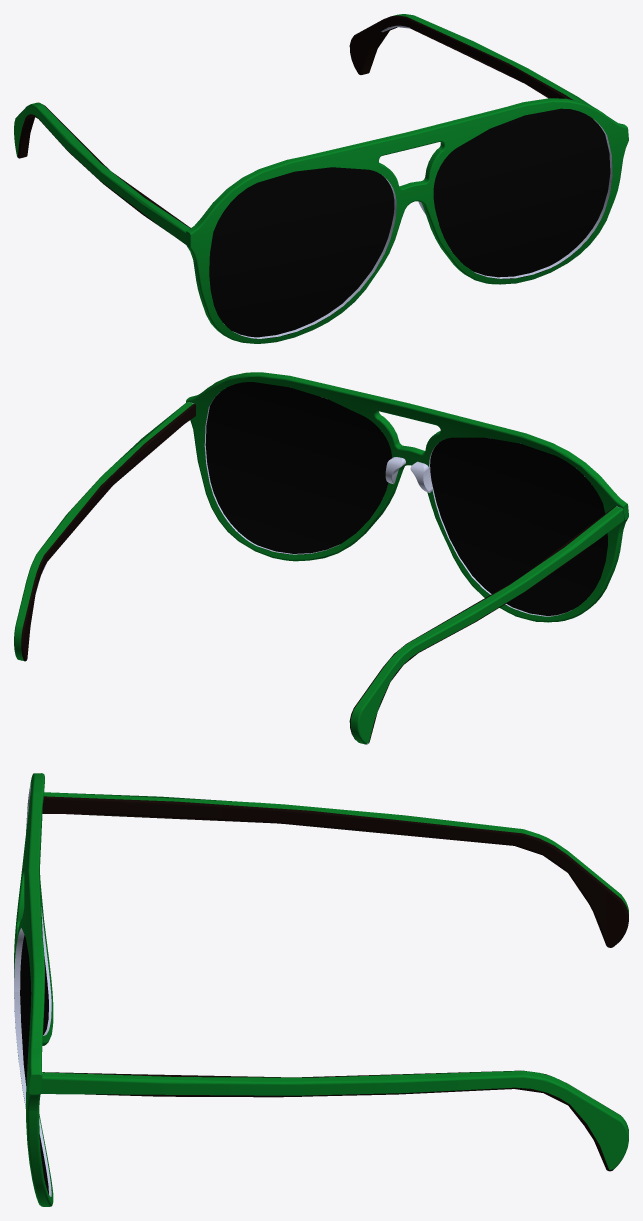
Rendered from sunglass-rb.obj.
The picture shows the model from 3 angles, top to bottom: view 1: azimuth 30°, elevation 25°; view 2: azimuth 150°, elevation 25°; view 3: azimuth 270°, elevation 25°; orthographic projection. The views are drawn at different scales.
Visible parts, largest first — view 1: glass2-1, glass2-7, glass2-3, glass2-15, glass2-13, glass2-4, glass2-11, glass2-6, glass2.002, glass2-14; view 2: glass2-7, glass2-1, glass2-15, glass2-3, glass2-4, glass2-13, glass2-11, glass2-6; view 3: glass2-11, glass2-6, glass2-15, glass2-4, glass2-3, glass2-13, glass2-7, glass2-14.
Boxes of the visible parts, x1=… form: glass2-1: x1=209, y1=167, x2=394, y2=338; glass2-7: x1=433, y1=108, x2=610, y2=278; glass2-3: x1=186, y1=132, x2=415, y2=343; glass2-15: x1=407, y1=98, x2=628, y2=284; glass2-13: x1=349, y1=15, x2=573, y2=100; glass2-4: x1=14, y1=102, x2=189, y2=244; glass2-11: x1=393, y1=14, x2=617, y2=122; glass2-6: x1=17, y1=102, x2=190, y2=231; glass2.002: x1=223, y1=175, x2=396, y2=338; glass2-14: x1=450, y1=119, x2=612, y2=278; glass2-7: x1=205, y1=382, x2=391, y2=554; glass2-1: x1=430, y1=437, x2=607, y2=615; glass2-15: x1=186, y1=372, x2=413, y2=561; glass2-3: x1=405, y1=403, x2=628, y2=622; glass2-4: x1=350, y1=506, x2=623, y2=744; glass2-13: x1=21, y1=403, x2=195, y2=661; glass2-11: x1=14, y1=402, x2=193, y2=660; glass2-6: x1=349, y1=506, x2=615, y2=742; glass2-11: x1=40, y1=1070, x2=628, y2=1169; glass2-6: x1=42, y1=796, x2=628, y2=947; glass2-15: x1=14, y1=870, x2=53, y2=1206; glass2-4: x1=44, y1=792, x2=628, y2=913; glass2-3: x1=14, y1=773, x2=53, y2=1045; glass2-13: x1=42, y1=1070, x2=620, y2=1171; glass2-7: x1=20, y1=935, x2=48, y2=1193; glass2-14: x1=14, y1=928, x2=51, y2=1196.
Bounding box in the file's own units: 1.94 × 0.7596 × 1.75.
